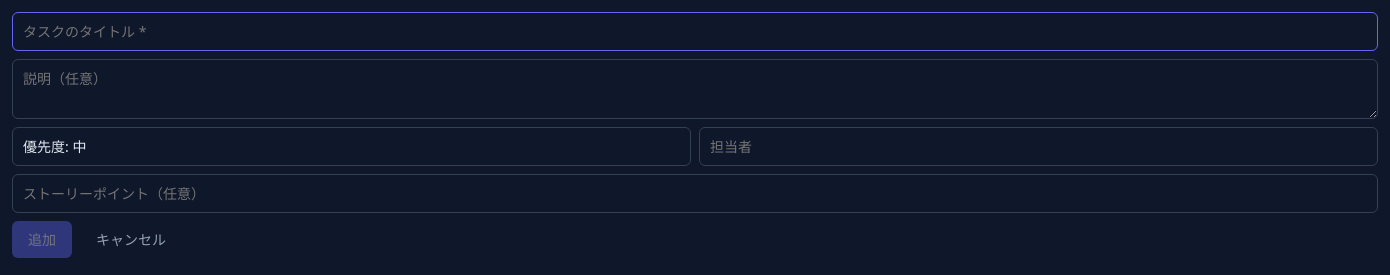
Test: AddCardForm (R-001) › タイトル入力で追加ボタンが活性化する (S-001-03)
The width and height of the screenshot is (1390, 275).
Step 1. Type "新タスク" into the field with placeholder "タスクのタイトル *" → [695, 32], box top-left (12, 12), bottom-right (1378, 51)
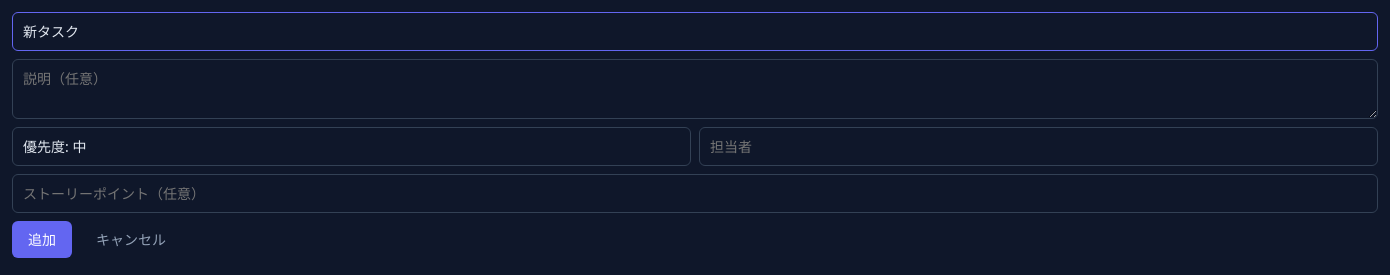
Result: the button "追加" is enabled at top-left (12, 221), bottom-right (72, 258)
